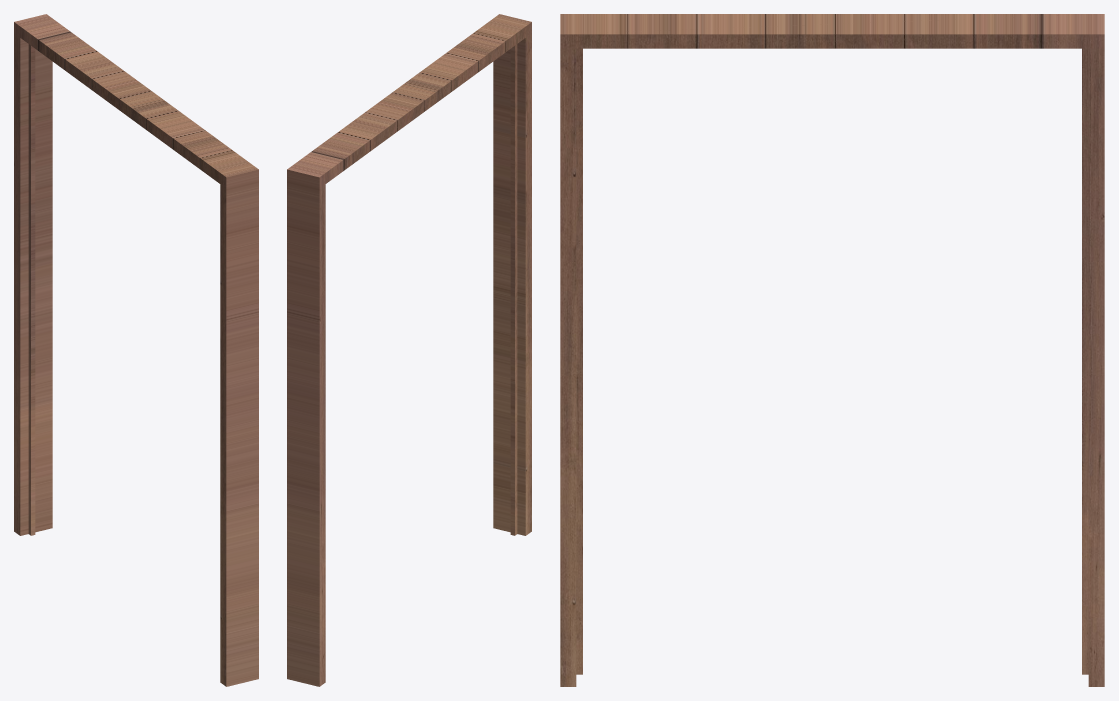
The model's file is door1_1.obj.
3 renders of one model, left to right at view 1: azimuth 30°, elevation 25°; view 2: azimuth 150°, elevation 25°; view 3: azimuth 270°, elevation 25°, orthographic. The views are drawn at different scales.
Visible parts, largest first — view 1: group62 _Door_Double:pCube22, group62 _Door_Double:pCube23, group62 _Door_Double:pCube24, _Door_Double:pCube26 group62; view 2: group62 _Door_Double:pCube23, group62 _Door_Double:pCube22, group62 _Door_Double:pCube24, group62 _Door_Double:pCube25; view 3: group62 _Door_Double:pCube24, group62 _Door_Double:pCube22, group62 _Door_Double:pCube23, _Door_Double:pCube26 group62, group62 _Door_Double:pCube25.
Part boxes in pixels (box(x1,y1,x2,y2)): group62 _Door_Double:pCube22: box(220, 181, 258, 686); group62 _Door_Double:pCube23: box(14, 33, 52, 535); group62 _Door_Double:pCube24: box(14, 14, 258, 188); _Door_Double:pCube26 group62: box(28, 44, 35, 535); group62 _Door_Double:pCube23: box(287, 181, 325, 686); group62 _Door_Double:pCube22: box(493, 33, 531, 535); group62 _Door_Double:pCube24: box(287, 14, 531, 188); group62 _Door_Double:pCube25: box(510, 44, 517, 535); group62 _Door_Double:pCube24: box(560, 14, 1104, 48); group62 _Door_Double:pCube22: box(560, 48, 576, 686); group62 _Door_Double:pCube23: box(1088, 48, 1104, 686); _Door_Double:pCube26 group62: box(1082, 48, 1088, 674); group62 _Door_Double:pCube25: box(576, 48, 582, 674).
Size of the model in its own units: 15 by 225 by 170.
